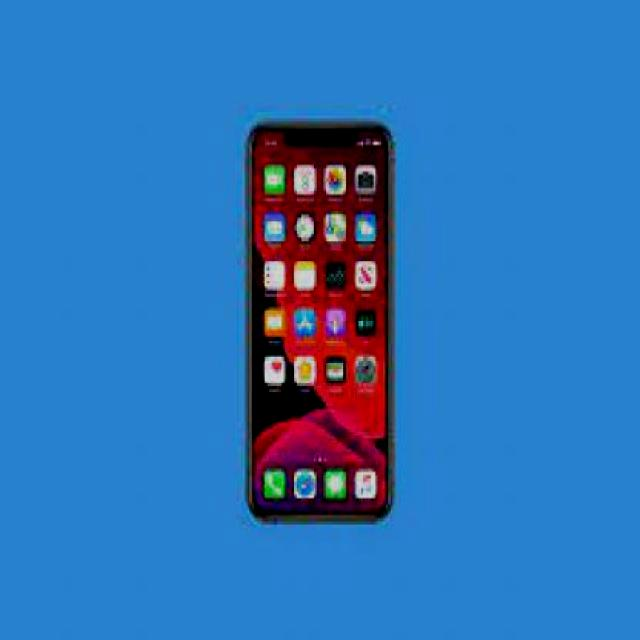phone: (250, 121, 393, 522)
